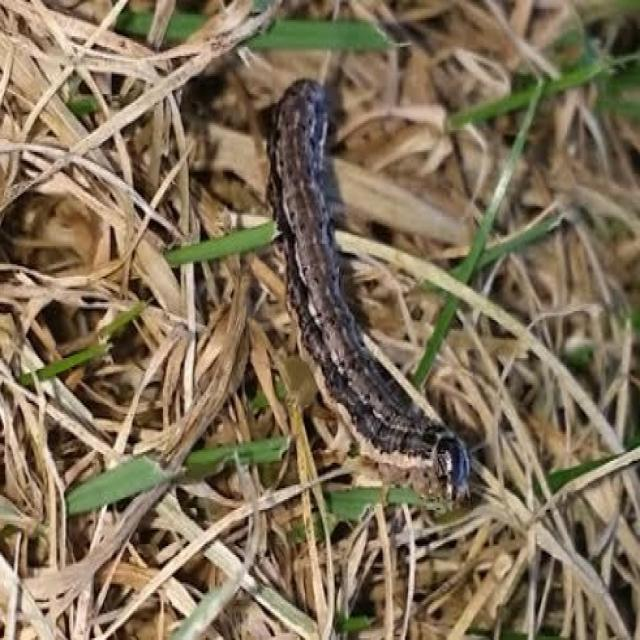army worm: (272, 76, 474, 508)
